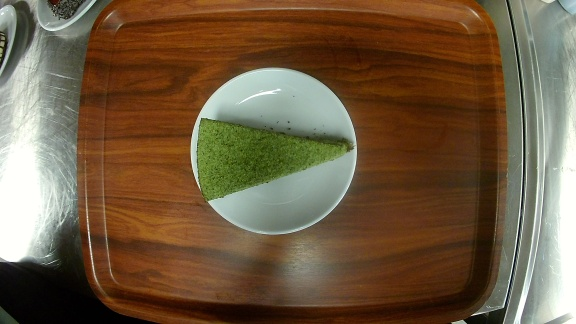fistiklipasta: (191, 67, 359, 236)
